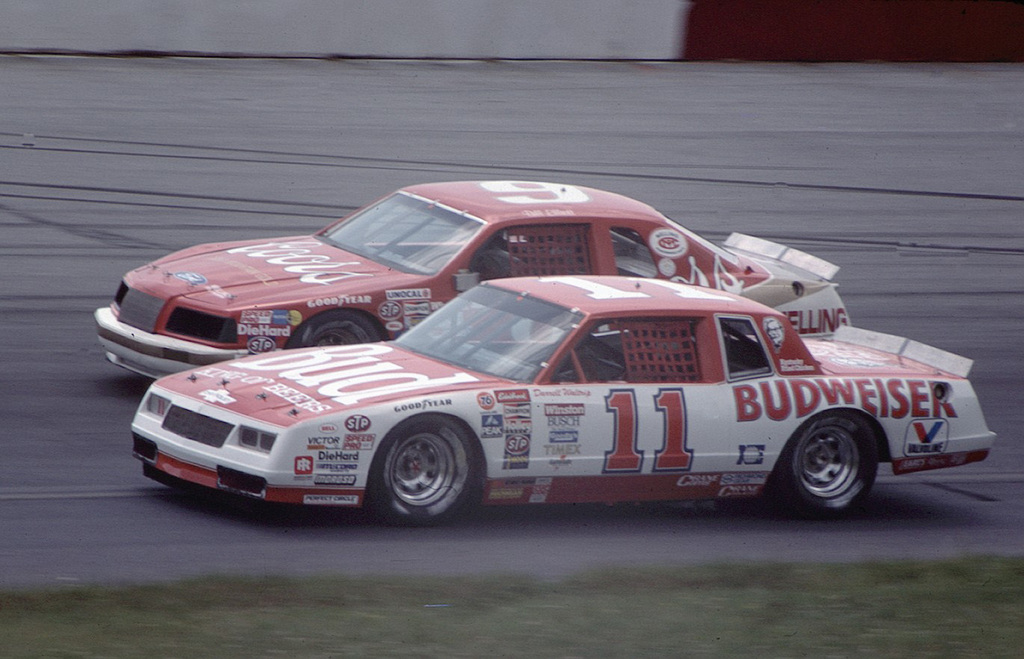Car: (128, 270, 999, 522), (89, 179, 851, 383)
